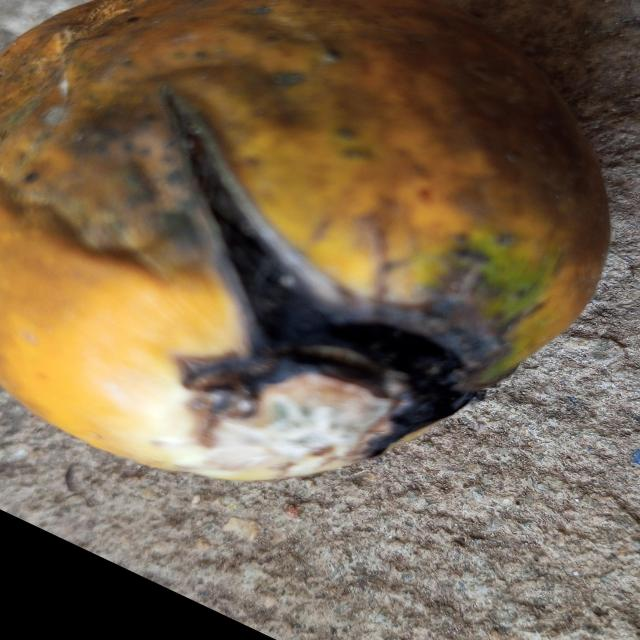damaged: (0, 0, 612, 485)
